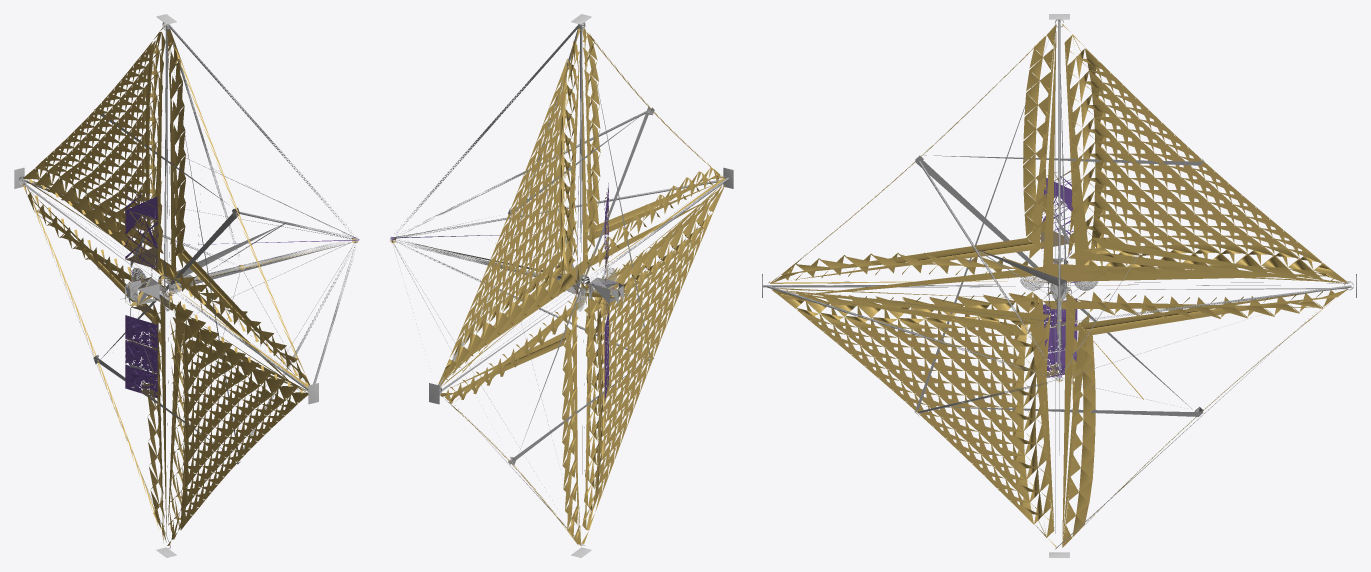
File: Solar Sail concept 2.glb
The picture shows the model from 3 angles, left to right: view 1: azimuth 30°, elevation 25°; view 2: azimuth 150°, elevation 25°; view 3: azimuth 270°, elevation 25°; orthographic projection.
Parts seen in each view (by area): view 1: Fake; view 2: Fake; view 3: Fake.
Part boxes in pixels (x1,y1,x2,y2): Fake: [14, 14, 359, 557]; Fake: [390, 14, 733, 557]; Fake: [762, 14, 1356, 557].
Size of the model in its own units: 8.11 by 17.12 by 17.12.
